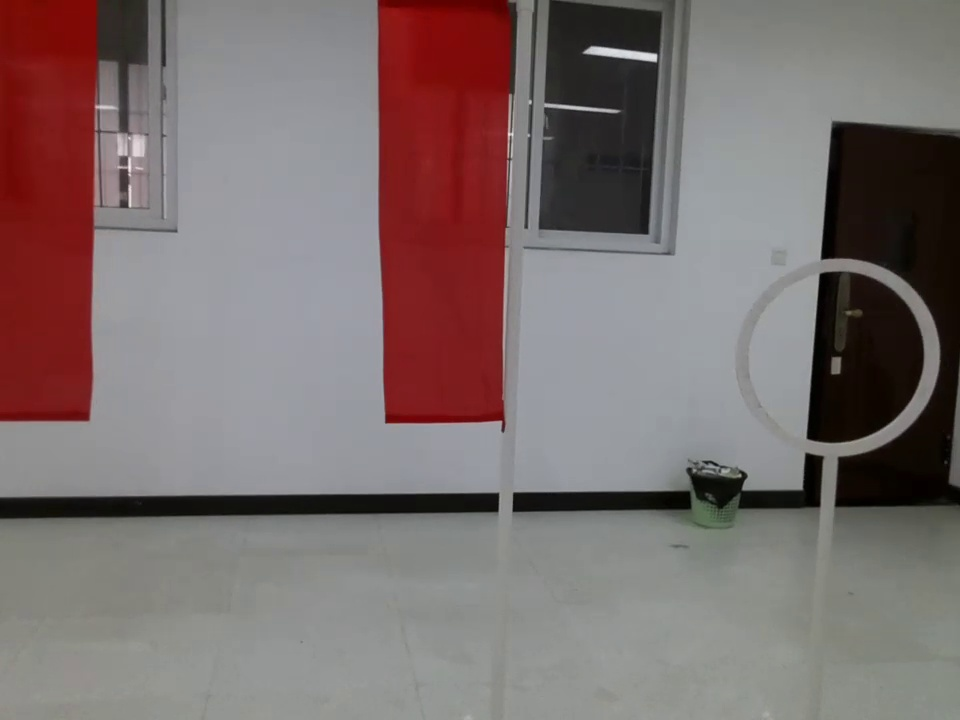qi: (372, 2, 532, 467), (1, 2, 99, 442)
quan: (722, 248, 960, 498)
